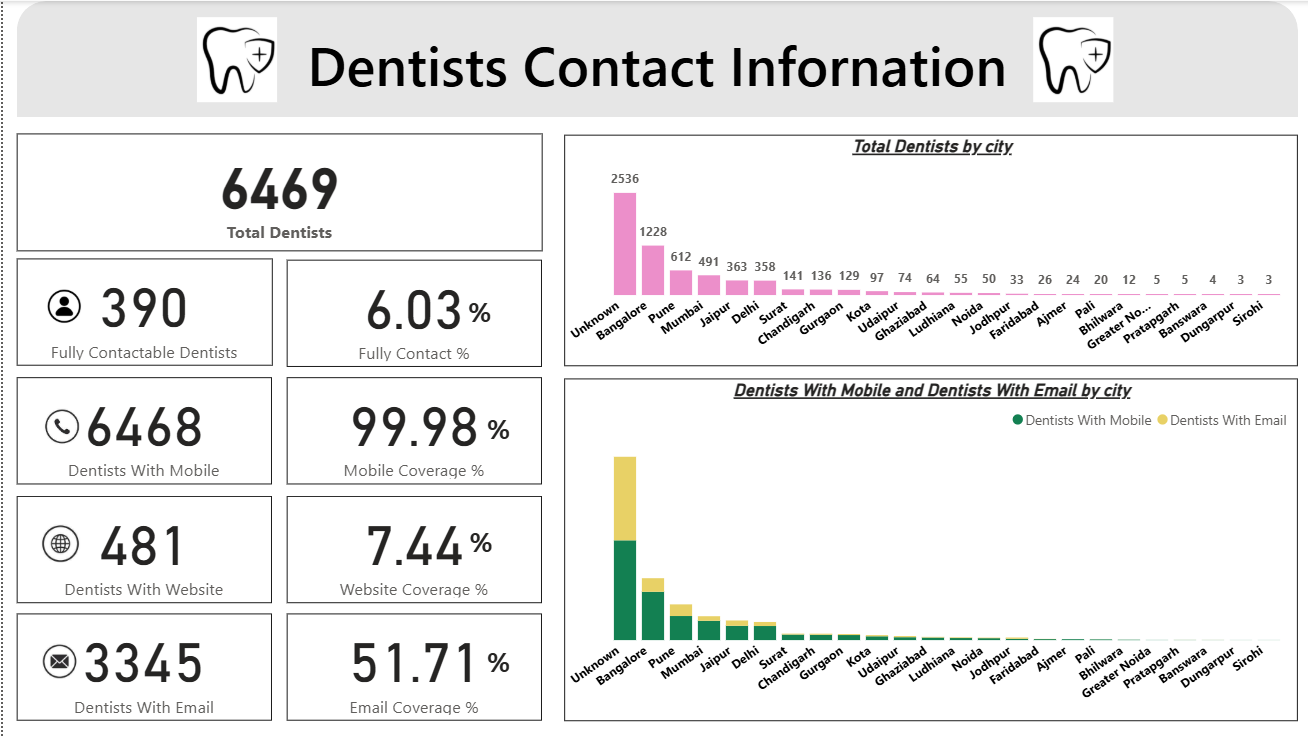

This screenshot's page, from the dashboard's own definition file:
{"tool":"powerbi","page":{"name":"Page 1","canvas":[1280,720],"ordinal":0},"visuals":[{"type":"card","fields":{"Values":["dental_dashboard_ready.Total Dentists"]},"box":[13.2,129.9,514.6,115.3],"z":0},{"type":"card","fields":{"Values":["dental_dashboard_ready.Dentists With Mobile"]},"box":[13.5,368.1,249.5,105.2],"z":1000},{"type":"card","fields":{"Values":["dental_dashboard_ready.Dentists With Email"]},"box":[13.2,599.2,249.7,105],"z":2000},{"type":"card","fields":{"Values":["dental_dashboard_ready.Dentists With Website"]},"box":[13.5,484.2,249.5,105.2],"z":3000},{"type":"card","fields":{"Values":["dental_dashboard_ready.Fully Contactable Dentists"]},"box":[13.2,252,250,105],"z":4000},{"type":"shape","box":[13.5,0,1253.4,113.7],"z":5000},{"type":"card","fields":{"Values":["dental_dashboard_ready.Contact Readiness %"]},"box":[278.1,253.4,249.7,105],"z":6000},{"type":"card","fields":{"Values":["dental_dashboard_ready.Mobile Coverage %"]},"box":[278.1,368.7,249.7,105],"z":7000},{"type":"card","fields":{"Values":["dental_dashboard_ready.Website Coverage %"]},"box":[278.1,483.9,249.7,105],"z":8000},{"type":"card","fields":{"Values":["dental_dashboard_ready.Email Coverage %"]},"box":[278.1,599.2,249.7,105],"z":9000},{"type":"columnChart","fields":{"Category":["dental_dashboard_ready.city"],"Y":["dental_dashboard_ready.Total Dentists"]},"box":[549.1,130.8,717.8,226.2],"z":10000},{"type":"columnChart","fields":{"Category":["dental_dashboard_ready.city"],"Y":["dental_dashboard_ready.Dentists With Mobile","dental_dashboard_ready.Dentists With Email"]},"box":[549.1,369.3,717.8,335.1],"z":11000},{"type":"image","box":[30.6,388.9,53.8,53.8],"z":12000},{"type":"image","box":[30.6,620,50.1,50.1],"z":13000},{"type":"image","box":[30.6,505,53.8,48.9],"z":14000},{"type":"image","box":[178,11,100,92.7],"z":15000},{"type":"image","box":[996.3,11,100,92.7],"z":16000},{"type":"image","box":[30.9,271.6,59.3,53.1],"z":17000},{"type":"textbox","box":[450,280,37.9,47.7],"z":18000},{"type":"textbox","box":[468.3,395,37.9,47.7],"z":19000},{"type":"textbox","box":[451.2,505,37.9,47.7],"z":20000},{"type":"textbox","box":[468.3,622.4,37.9,47.7],"z":21000}]}

Visuals, with their boxes in screenshot pixels (x1, y1, x2, y2), scaled from the page's 1280x720 canvas onto the 1308x736 screenshot:
card - dental_dashboard_ready.Total Dentists: 13, 133, 539, 251
card - dental_dashboard_ready.Dentists With Mobile: 14, 376, 269, 484
card - dental_dashboard_ready.Dentists With Email: 13, 613, 269, 720
card - dental_dashboard_ready.Dentists With Website: 14, 495, 269, 602
card - dental_dashboard_ready.Fully Contactable Dentists: 13, 258, 269, 365
shape: 14, 0, 1295, 116
card - dental_dashboard_ready.Contact Readiness %: 284, 259, 539, 366
card - dental_dashboard_ready.Mobile Coverage %: 284, 377, 539, 484
card - dental_dashboard_ready.Website Coverage %: 284, 495, 539, 602
card - dental_dashboard_ready.Email Coverage %: 284, 613, 539, 720
columnChart - dental_dashboard_ready.city x dental_dashboard_ready.Total Dentists: 561, 134, 1295, 365
columnChart - dental_dashboard_ready.city x dental_dashboard_ready.Dentists With Mobile: 561, 378, 1295, 720
image: 31, 398, 86, 453
image: 31, 634, 82, 685
image: 31, 516, 86, 566
image: 182, 11, 284, 106
image: 1018, 11, 1120, 106
image: 32, 278, 92, 332
textbox: 460, 286, 499, 335
textbox: 479, 404, 517, 453
textbox: 461, 516, 500, 565
textbox: 479, 636, 517, 685
